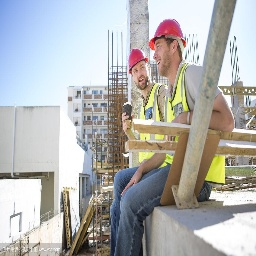helmet: (149, 18, 190, 52), (124, 47, 152, 75)
person: (147, 12, 237, 196), (116, 42, 152, 205)
